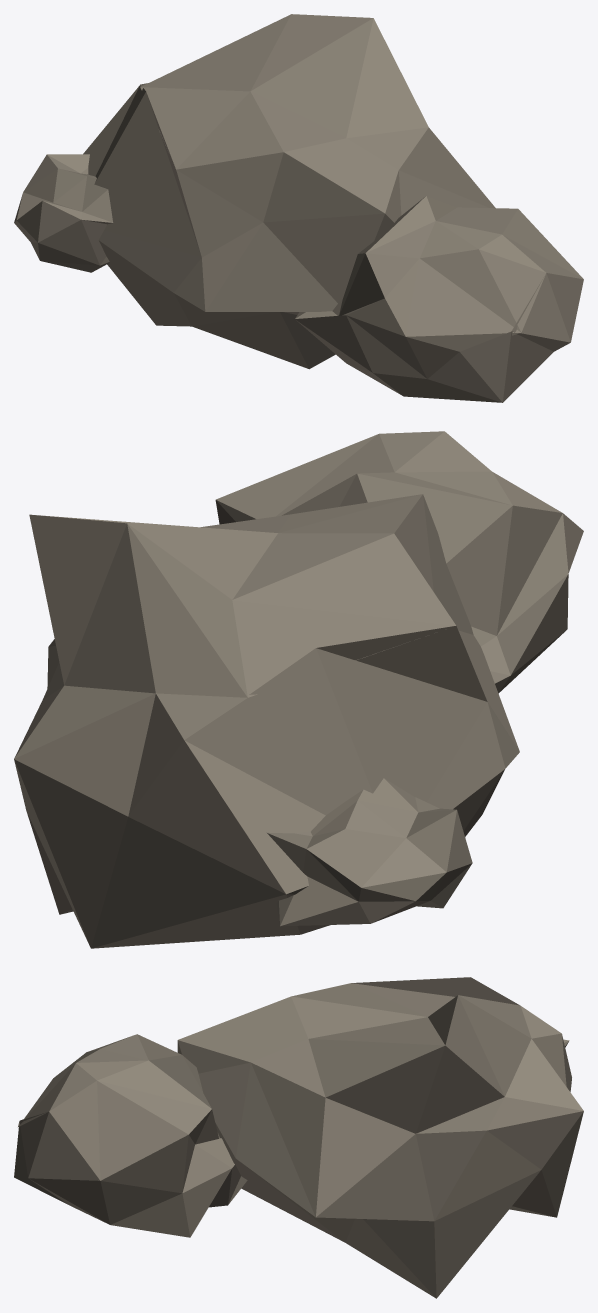
Rendered from roca_3.glb.
3 renders of one model, top to bottom at view 1: azimuth 30°, elevation 25°; view 2: azimuth 150°, elevation 25°; view 3: azimuth 270°, elevation 25°, orthographic. The views are drawn at different scales.
Visible parts, largest first — view 1: roca_3; view 2: roca_3; view 3: roca_3.
Part boxes in pixels (box(x1,y1,x2,y2)): roca_3: box(14, 14, 583, 402); roca_3: box(14, 431, 583, 948); roca_3: box(14, 977, 583, 1298).
Size of the model in its own units: 0.3204 by 0.2386 by 0.4452.
